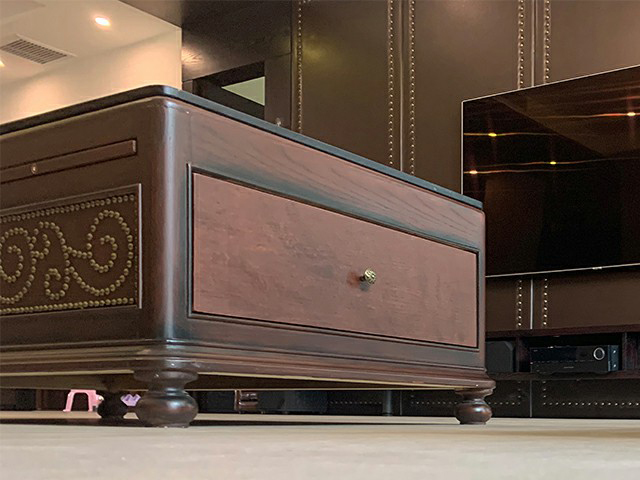cabinet: (487, 317, 640, 419)
table: (2, 84, 497, 430)
